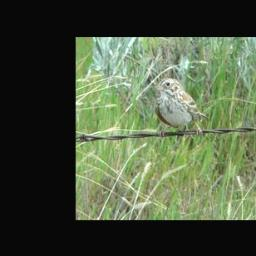Sparrow: (153, 75, 209, 137)
